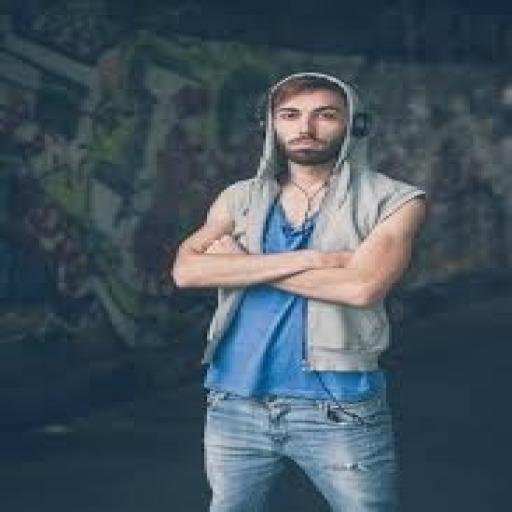listening_to_music: (168, 69, 434, 510)
